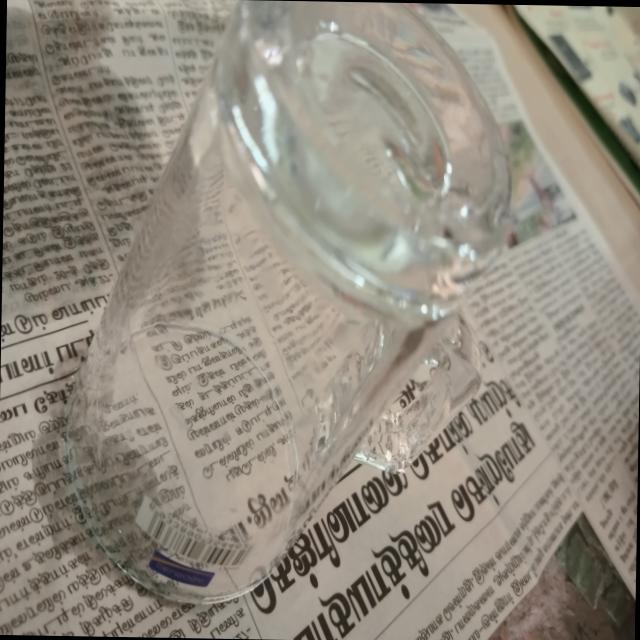glass-VX4N: (60, 0, 517, 610)
